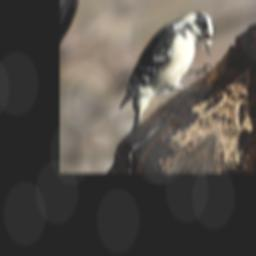Woodpecker: (102, 2, 236, 149)
